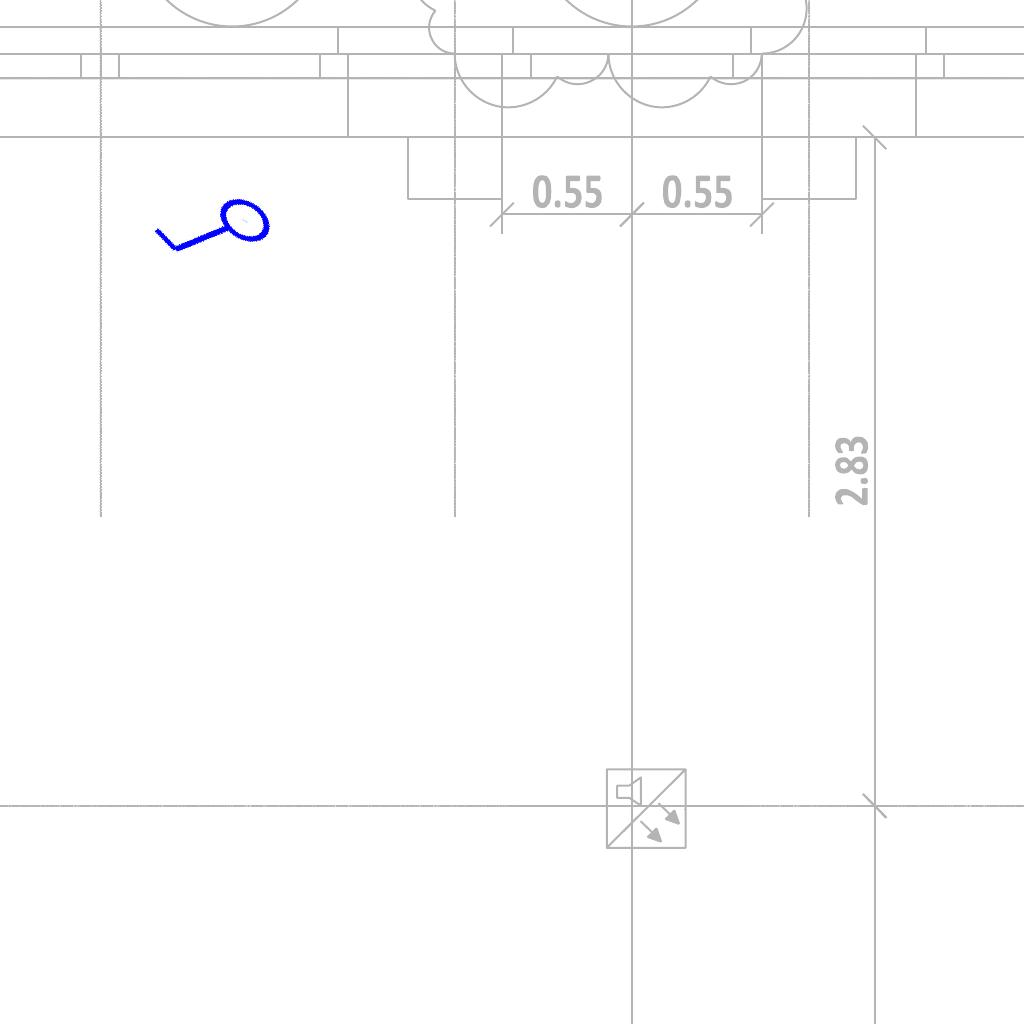Ausschalter: (143, 162, 289, 304)
